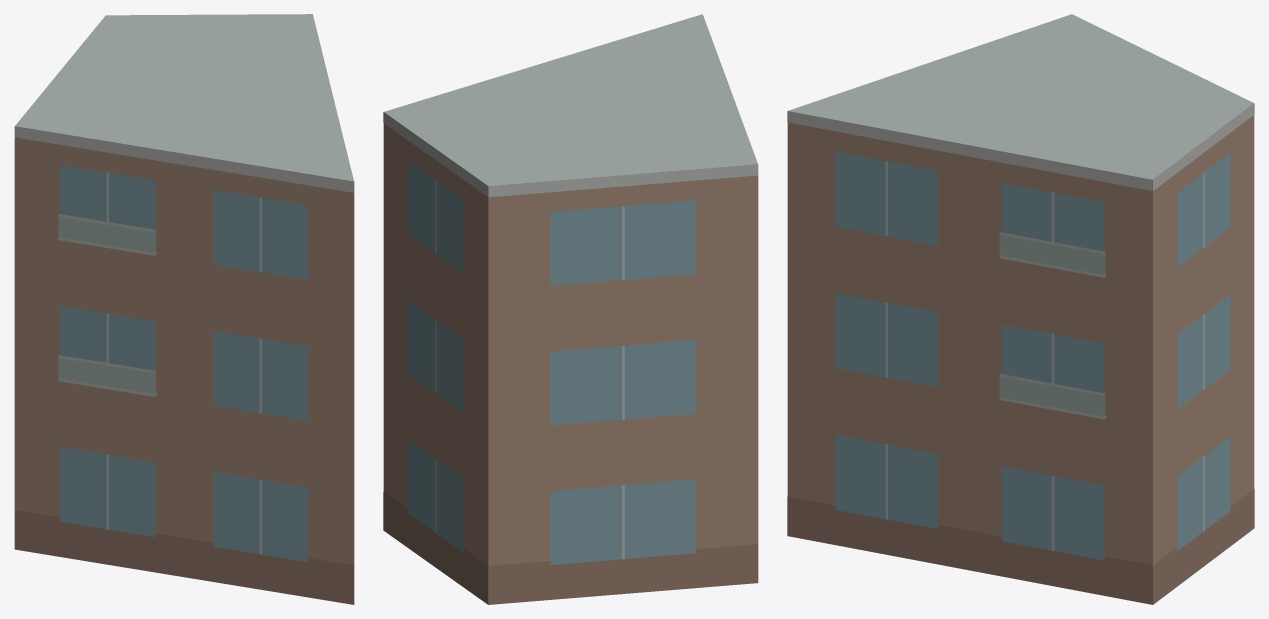
Rendered from survey-upis-32499619.glb.
The picture shows the model from 3 angles, left to right: view 1: azimuth 30°, elevation 25°; view 2: azimuth 150°, elevation 25°; view 3: azimuth 270°, elevation 25°; orthographic projection.
Visible parts, largest first — view 1: survey-upis-32499619.tmp; view 2: survey-upis-32499619.tmp; view 3: survey-upis-32499619.tmp.
Boxes of the visible parts, left/top/right/bottom form: survey-upis-32499619.tmp: left=14, top=14, right=354, bottom=604; survey-upis-32499619.tmp: left=383, top=14, right=758, bottom=604; survey-upis-32499619.tmp: left=787, top=14, right=1254, bottom=604.
Bounding box in the file's own units: 7.67 × 9.15 × 9.12.
